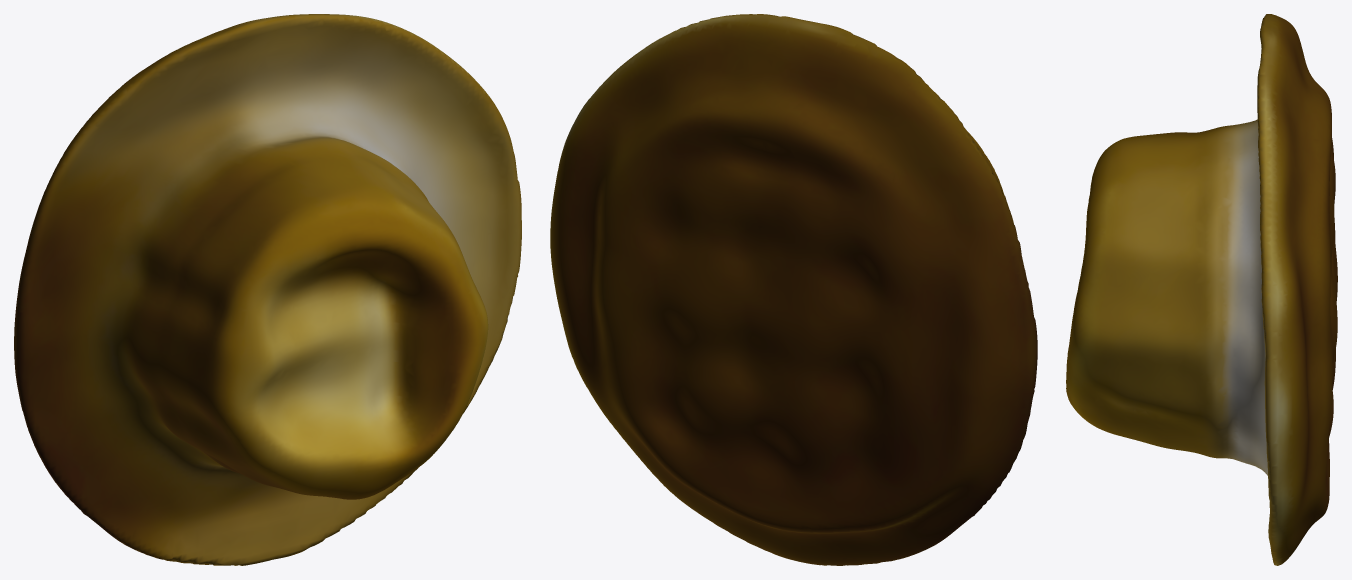
Rendered from hat.glb.
The picture shows the model from 3 angles, left to right: view 1: azimuth 30°, elevation 25°; view 2: azimuth 150°, elevation 25°; view 3: azimuth 270°, elevation 25°; orthographic projection. The views are drawn at different scales.
Size of the model in its own units: 0.9522 by 0.9991 by 0.4929.
